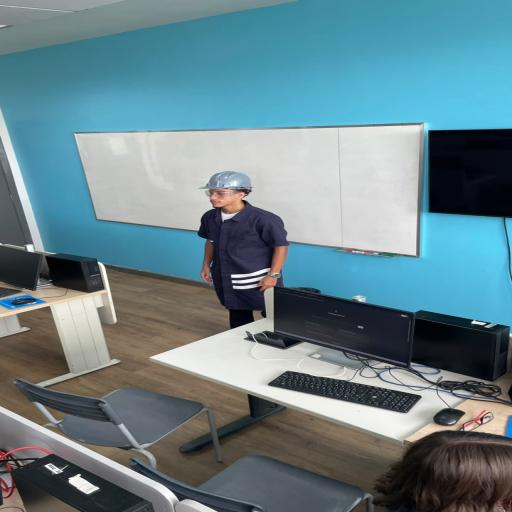CAPACETE: (198, 171, 254, 190)
OCULOS: (206, 190, 240, 197)
